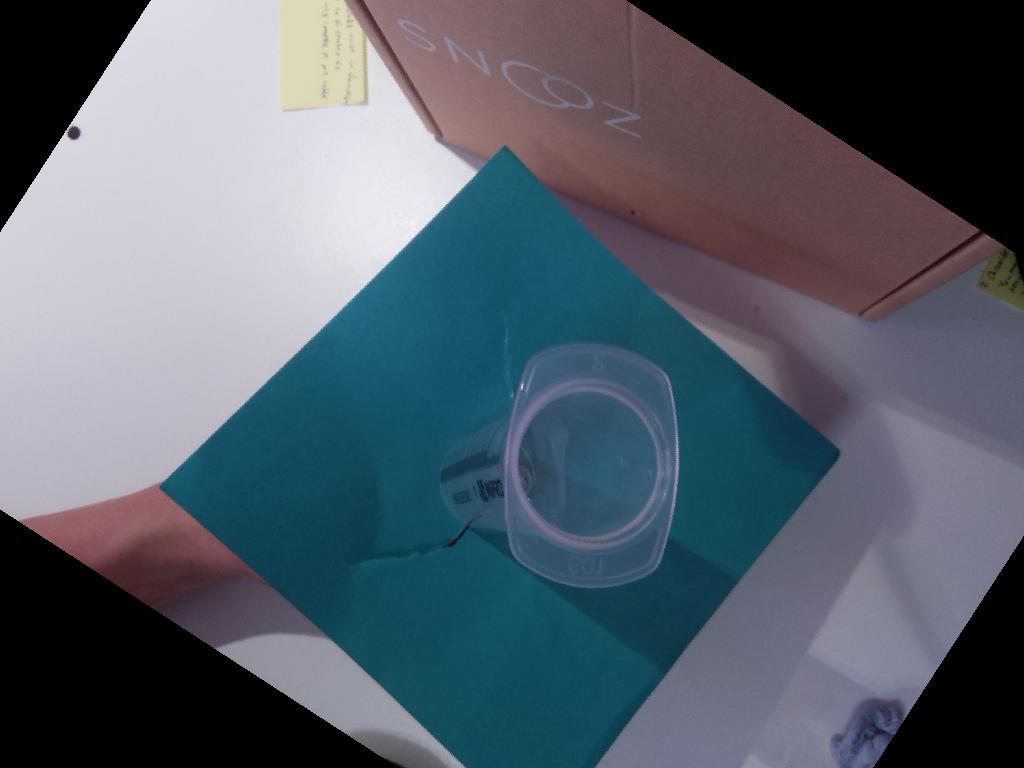clean: (500, 341, 681, 589)
